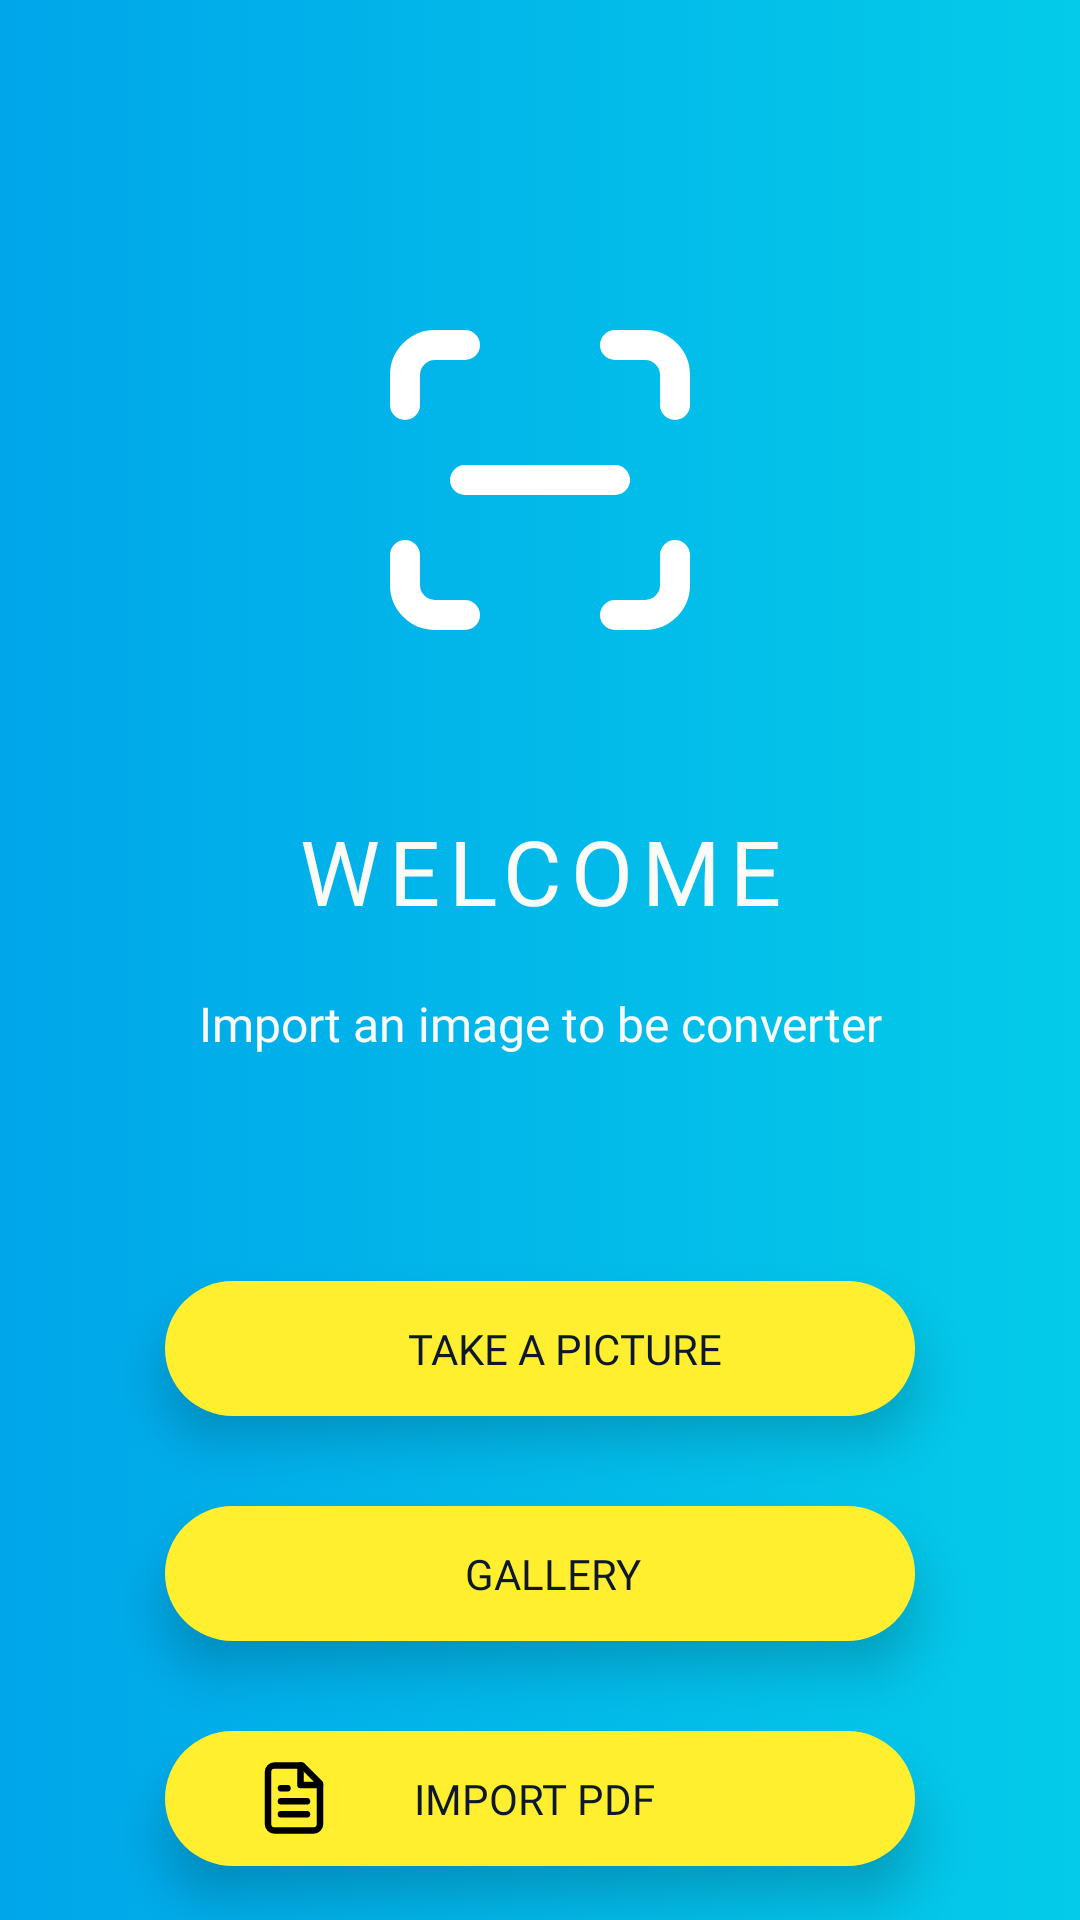

Named icons in this screenshot (1080x1920) and their bounding boxes, (x1, y1, x2, y2):
scan line: (390, 330, 690, 630)
